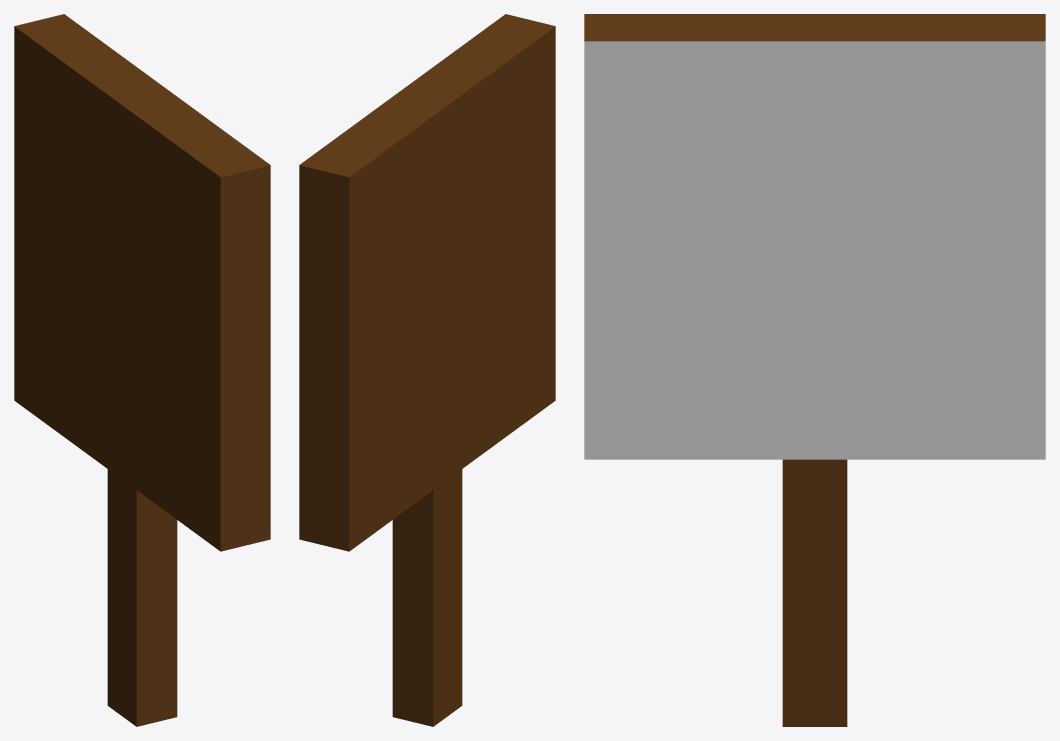
Rendered from cactusSign_v3.fbx.
3 views of the same model, side by side, from view 1: azimuth 30°, elevation 25°; view 2: azimuth 150°, elevation 25°; view 3: azimuth 270°, elevation 25° (orthographic). The views are drawn at different scales.
Visible parts, largest first — view 1: Cube, Cube.001; view 2: Cube, Cube.001; view 3: Cube, Cube.001.
Boxes of the visible parts, x1,y1,x2,y2 form: Cube: (14, 14, 270, 551); Cube.001: (107, 469, 177, 726); Cube: (299, 14, 555, 551); Cube.001: (392, 469, 462, 726); Cube: (584, 14, 1045, 459); Cube.001: (782, 459, 847, 726).
Bounding box in the file's own units: 12.94 × 152 × 92.36.
